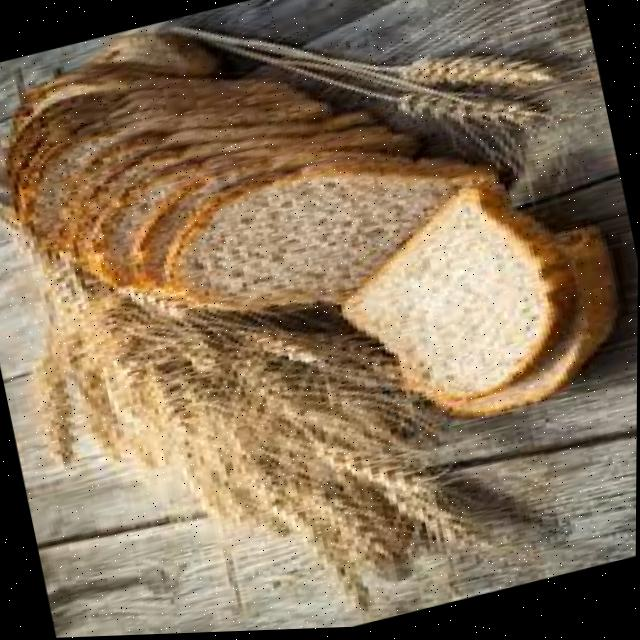Bread: (342, 190, 563, 400), (173, 162, 461, 308), (85, 160, 209, 286)
